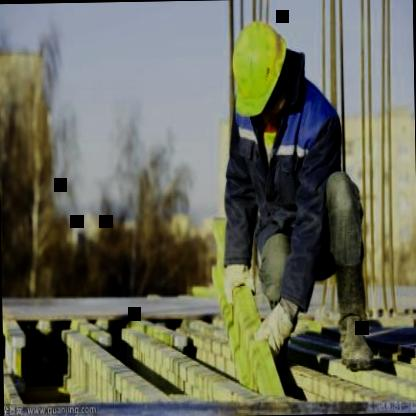helmet: (226, 16, 294, 131)
